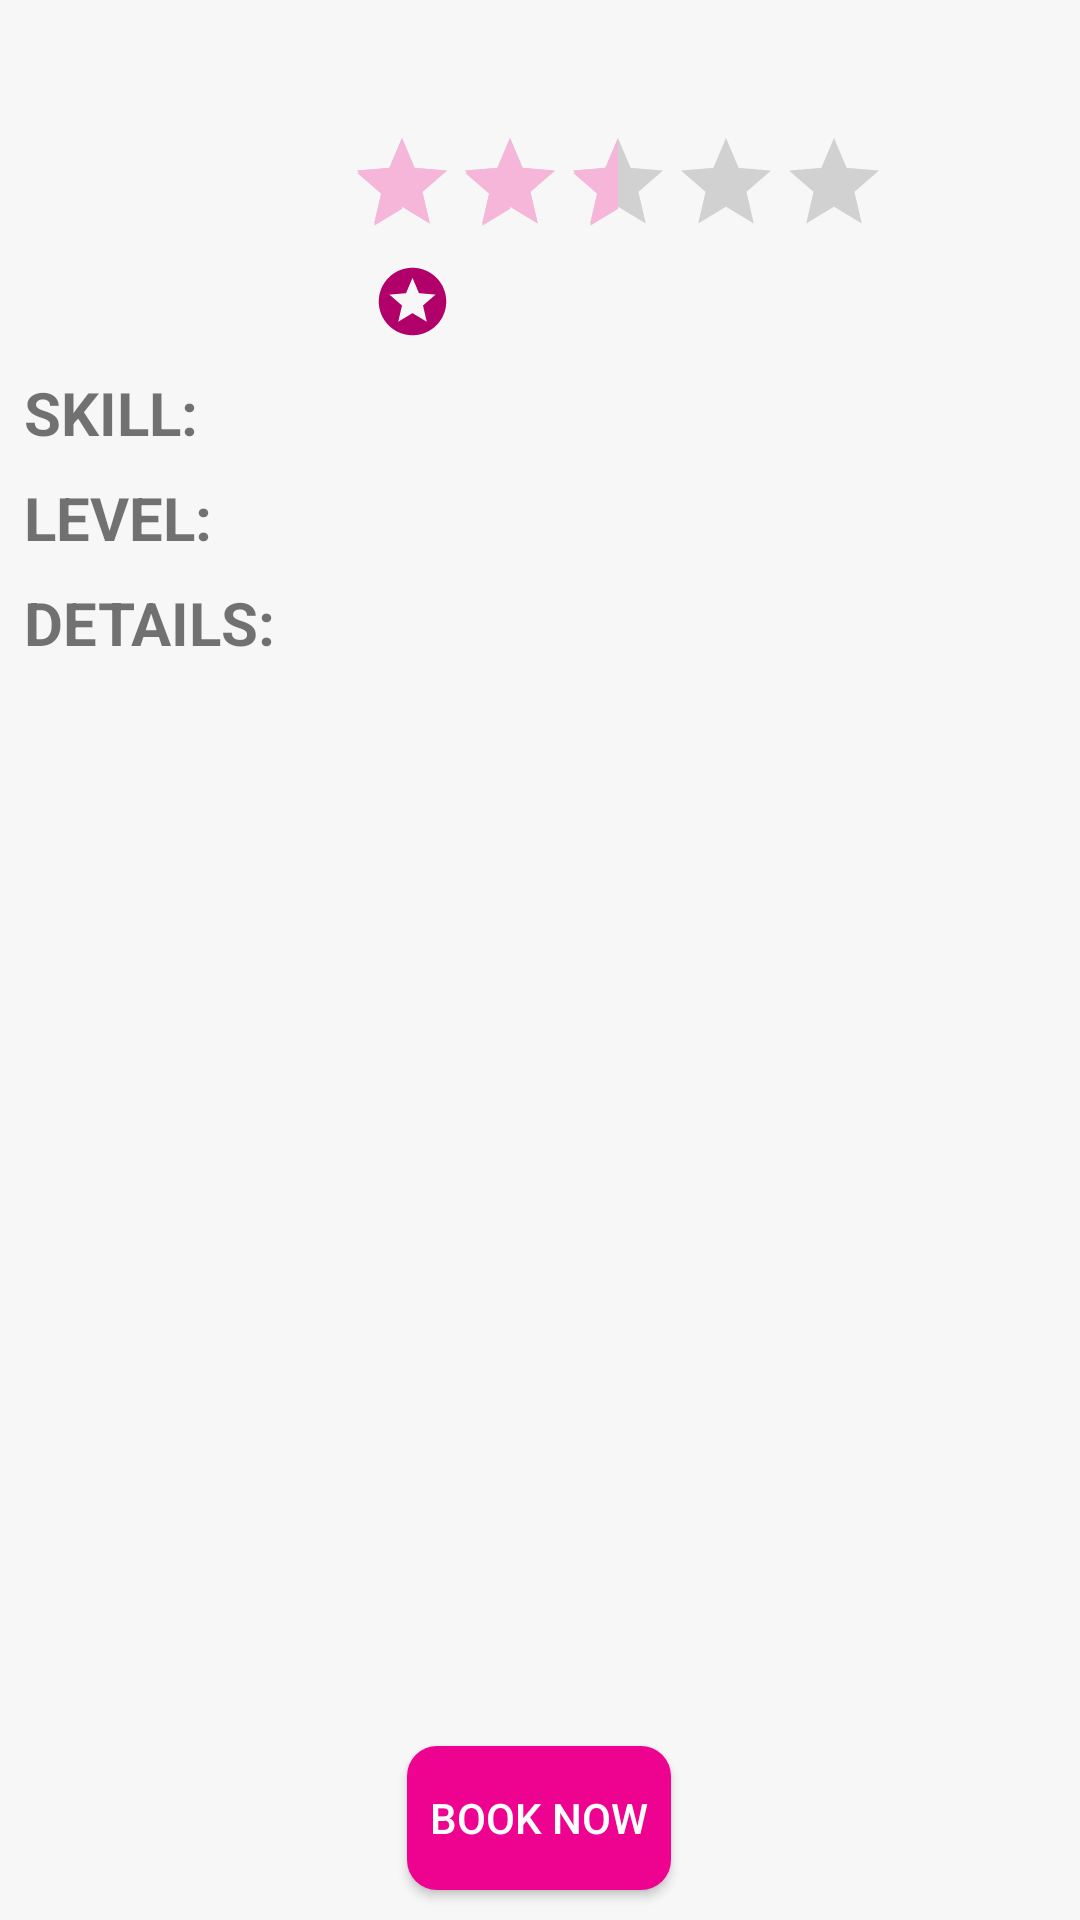

Icons on this 1080*1920 Android screen, each with its box as (x1, y1, x2, y2):
star: (378, 267, 447, 336)
